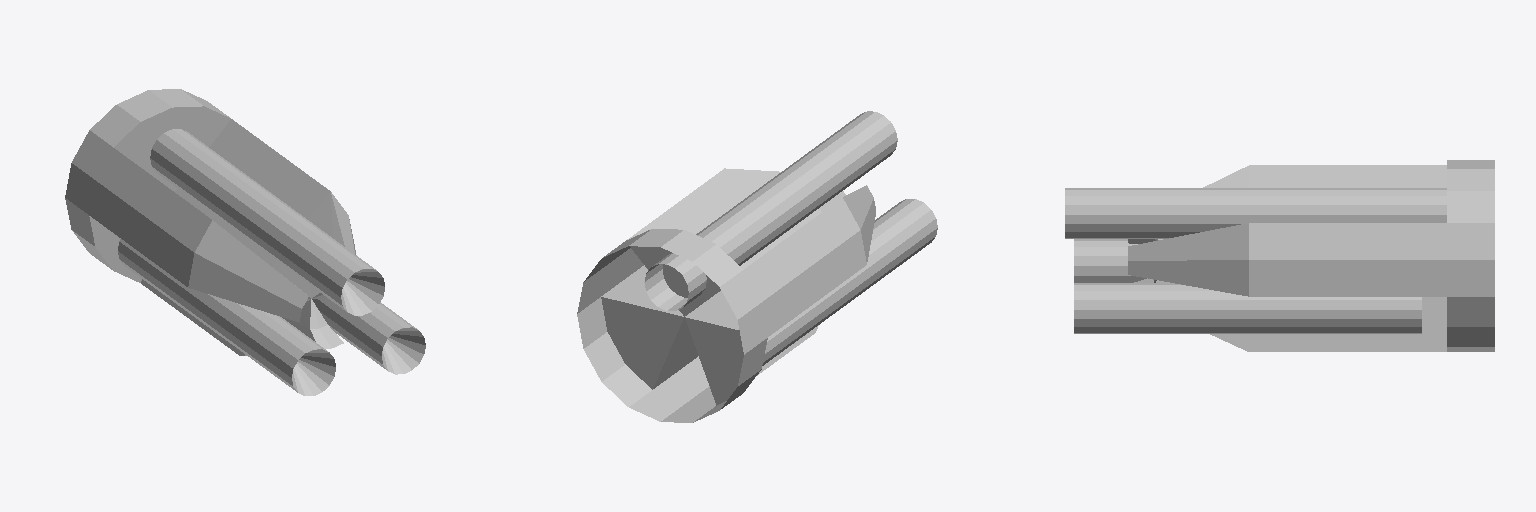
File: spindle2.obj
The picture shows the model from 3 angles: view 1: azimuth 30°, elevation 25°; view 2: azimuth 150°, elevation 25°; view 3: azimuth 270°, elevation 25°; orthographic projection.
Parts seen in each view (by area): view 1: Cylinder.004_Cylinder.013, Cylinder.003_Cylinder.009, Cylinder.002_Cylinder.007; view 2: Cylinder.004_Cylinder.013, Cylinder.003_Cylinder.009, Cylinder.002_Cylinder.007; view 3: Cylinder.004_Cylinder.013, Cylinder.002_Cylinder.007, Cylinder.003_Cylinder.009.
Part boxes in pixels (bbox=[...]): Cylinder.004_Cylinder.013: bbox=[65, 89, 355, 355]; Cylinder.003_Cylinder.009: bbox=[150, 129, 384, 315]; Cylinder.002_Cylinder.007: bbox=[118, 239, 425, 395]; Cylinder.004_Cylinder.013: bbox=[577, 168, 875, 422]; Cylinder.003_Cylinder.009: bbox=[644, 111, 897, 310]; Cylinder.002_Cylinder.007: bbox=[762, 191, 937, 365]; Cylinder.004_Cylinder.013: bbox=[1128, 160, 1494, 351]; Cylinder.002_Cylinder.007: bbox=[1074, 239, 1421, 333]; Cylinder.003_Cylinder.009: bbox=[1065, 188, 1446, 238].
Bounding box in the file's own units: 3.74 × 3.74 × 8.33.